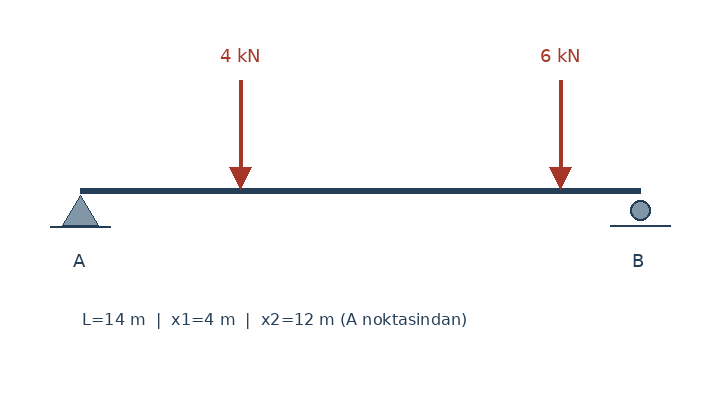pin_support: (61, 190, 99, 226)
point_load: (226, 76, 254, 190), (546, 76, 574, 190)
roller_support: (625, 196, 655, 227)
